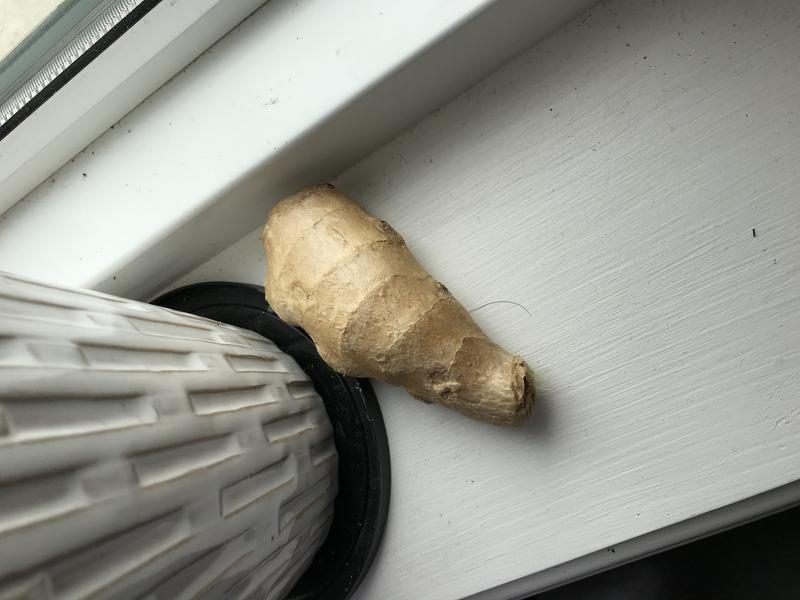ginger: (259, 171, 543, 442)
